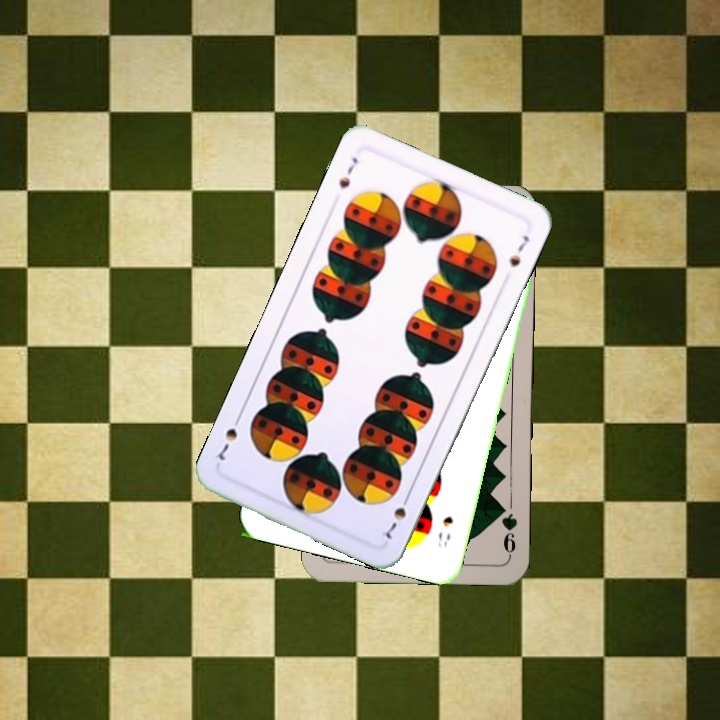G9: (495, 500, 520, 559)
S7: (377, 489, 413, 542), (334, 153, 361, 191)
S8: (433, 512, 456, 550)
